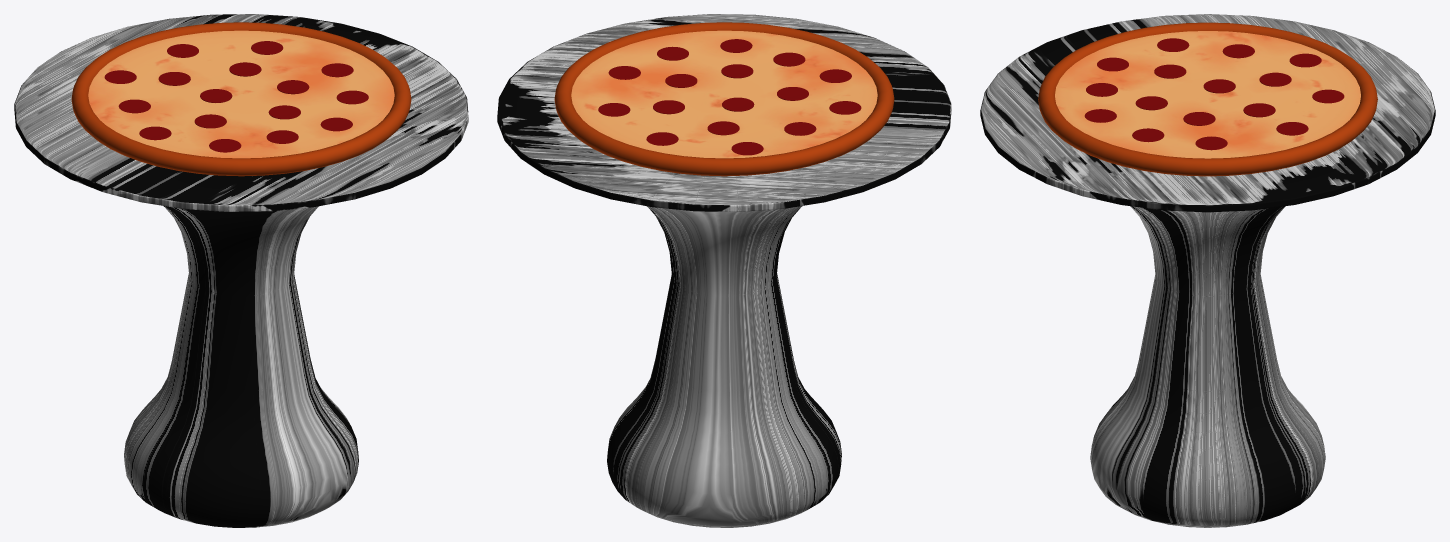
Rendered from saviorPizza.obj.
3 renders of one model, left to right at view 1: azimuth 30°, elevation 25°; view 2: azimuth 150°, elevation 25°; view 3: azimuth 270°, elevation 25°, orthographic.
Parts seen in each view (by area): view 1: Cylinder.017, Cylinder, Torus; view 2: Cylinder.017, Cylinder, Torus; view 3: Cylinder.017, Cylinder, Torus.
Part boxes in pixels (x1=…): Cylinder.017: x1=14, y1=14, x2=468, y2=527; Cylinder: x1=88, y1=30, x2=394, y2=158; Torus: x1=71, y1=22, x2=411, y2=176; Cylinder.017: x1=497, y1=14, x2=951, y2=527; Cylinder: x1=571, y1=30, x2=877, y2=158; Torus: x1=554, y1=22, x2=894, y2=176; Cylinder.017: x1=980, y1=14, x2=1435, y2=527; Cylinder: x1=1055, y1=31, x2=1360, y2=158; Torus: x1=1038, y1=22, x2=1377, y2=176.
Size of the model in its own units: 1.27 by 1.23 by 1.27.
